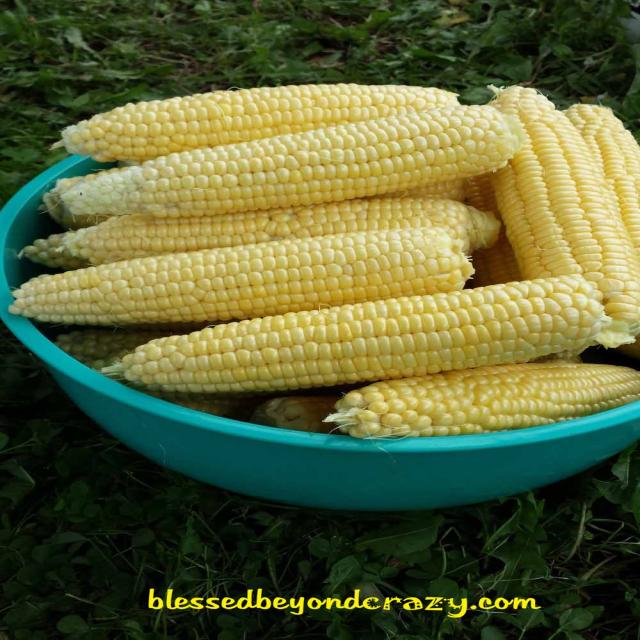corn: (112, 270, 618, 393), (20, 213, 501, 331), (37, 113, 517, 216), (487, 66, 640, 336), (50, 79, 468, 171), (333, 360, 640, 441)
